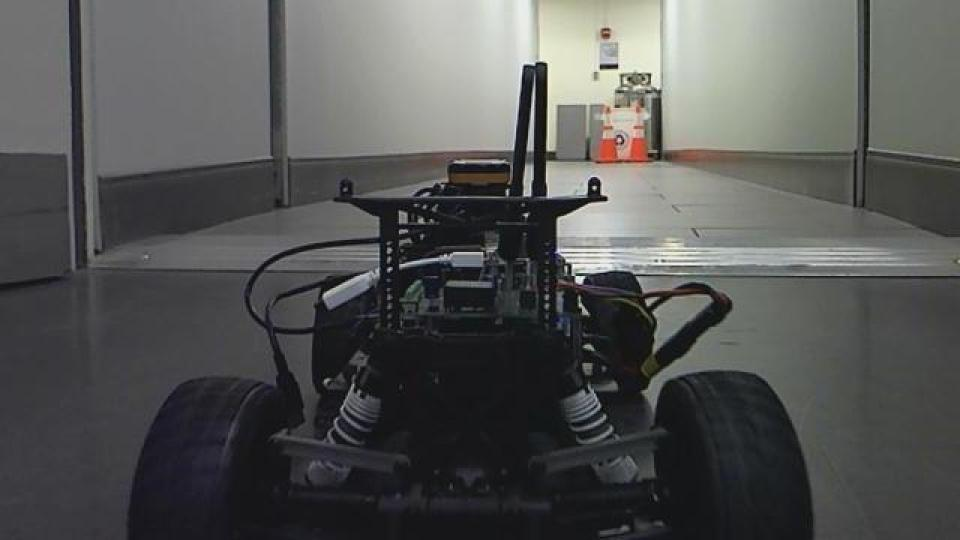car: (123, 60, 816, 537)
